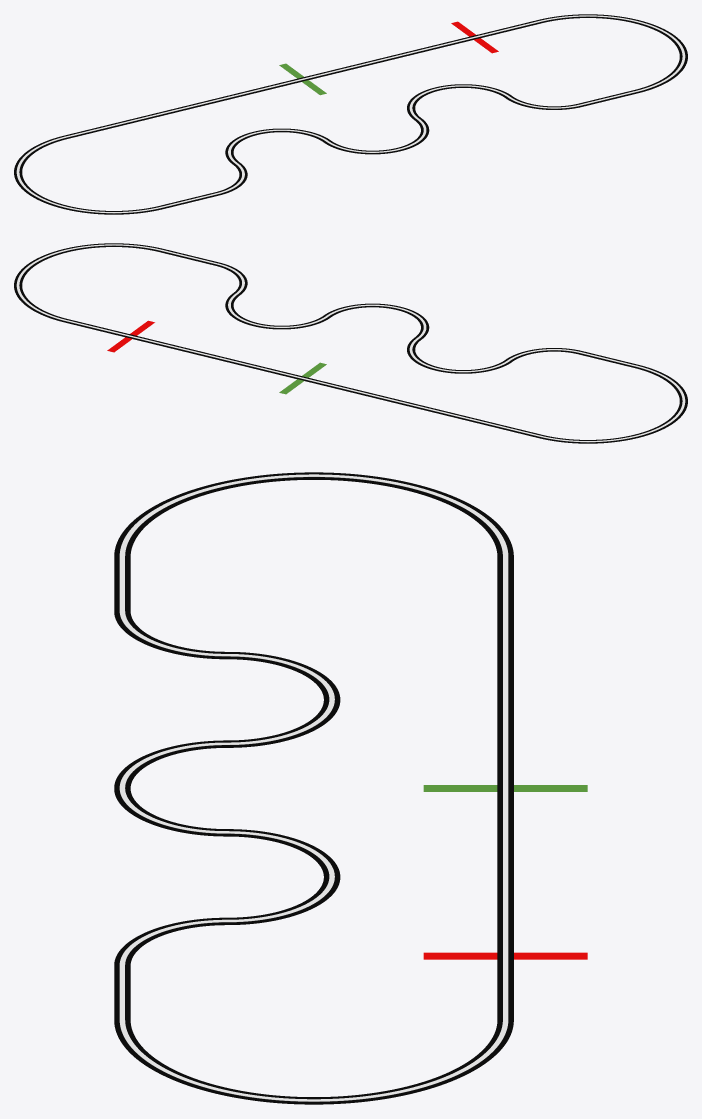
Rendered from track_small_2_lane.dae.
The picture shows the model from 3 angles, top to bottom: view 1: azimuth 30°, elevation 25°; view 2: azimuth 150°, elevation 25°; view 3: azimuth 270°, elevation 25°; orthographic projection. The views are drawn at different scales.
Parts seen in each view (by area): view 1: center_line, left_line, right_line; view 2: center_line, left_line, right_line; view 3: center_line, left_line, right_line, finish, start.
Boxes of the visible parts, bbox=[...] form: center_line: bbox=[16, 15, 685, 213]; left_line: bbox=[14, 14, 687, 214]; right_line: bbox=[19, 16, 682, 211]; center_line: bbox=[16, 244, 685, 442]; left_line: bbox=[14, 243, 687, 443]; right_line: bbox=[19, 245, 682, 440]; center_line: bbox=[119, 474, 508, 1101]; left_line: bbox=[114, 472, 513, 1104]; right_line: bbox=[125, 477, 502, 1099]; finish: bbox=[423, 952, 587, 959]; start: bbox=[423, 785, 587, 791].
Bounding box in the file's own units: 13.65 × 4.33 × 0.01.
